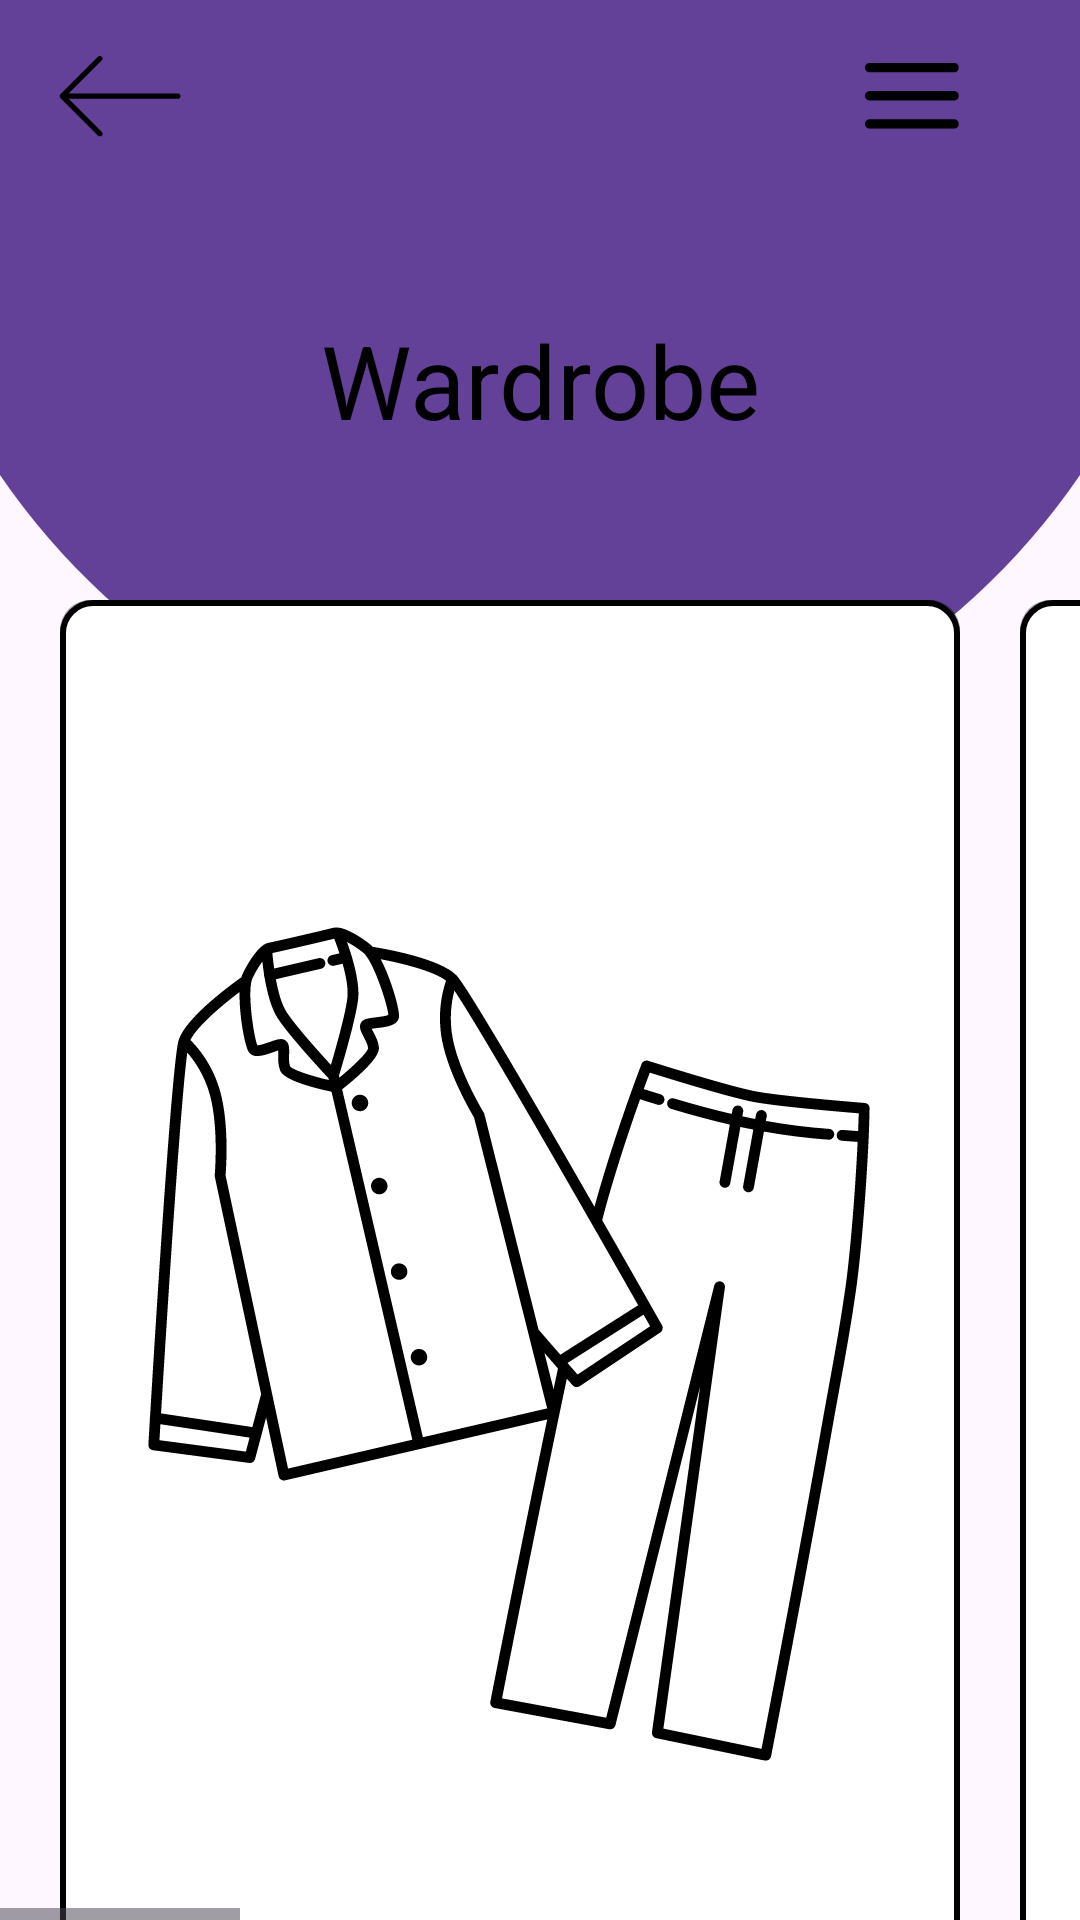

Point at icon controls on the screen. Image size 1080w x 1920h, points as [x,y].
back: [120,96]
menu: [912,96]
